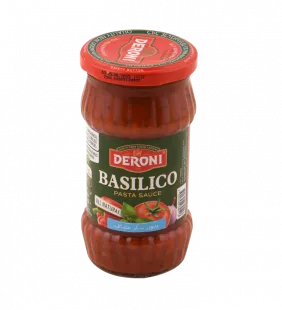DERONI: (69, 20, 204, 284)
